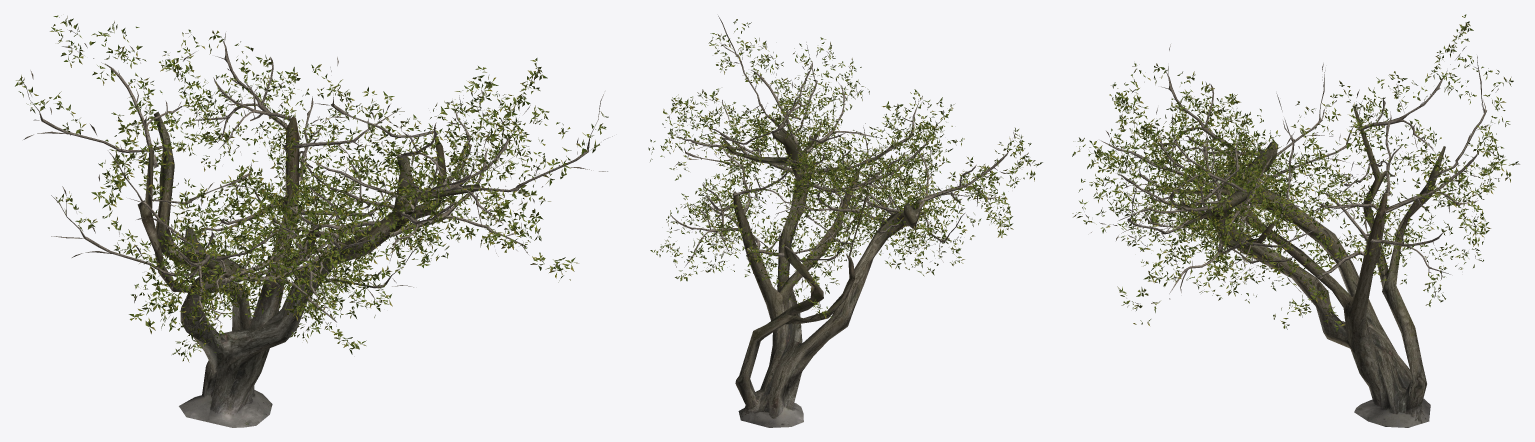
Rendered from island2_lod0.glb.
3 views of the same model, side by side, from view 1: azimuth 30°, elevation 25°; view 2: azimuth 150°, elevation 25°; view 3: azimuth 270°, elevation 25° (orthographic). The views are drawn at different scales.
Visible parts, largest first — view 1: island_tree_02_LOD0; view 2: island_tree_02_LOD0; view 3: island_tree_02_LOD0.
Boxes of the visible parts, x1,y1,x2,y2 form: island_tree_02_LOD0: (15, 15, 612, 427); island_tree_02_LOD0: (648, 16, 1042, 427); island_tree_02_LOD0: (1072, 14, 1519, 427).
Size of the model in its own units: 4.05 by 3.4 by 4.04.
3 materials, 3 textured.
